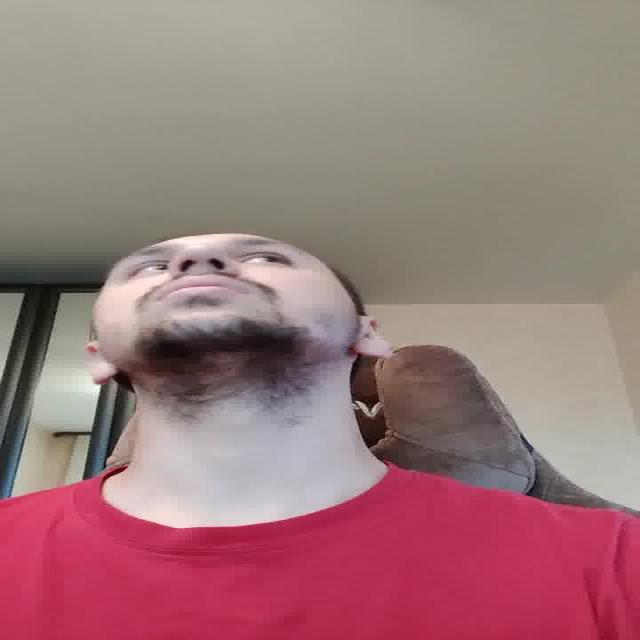earlobe: (88, 366, 123, 384), (354, 344, 398, 358)
eye: (242, 253, 294, 268), (127, 262, 169, 275)
nose: (170, 263, 240, 278)
wholeear: (352, 315, 397, 356), (80, 342, 122, 383)
